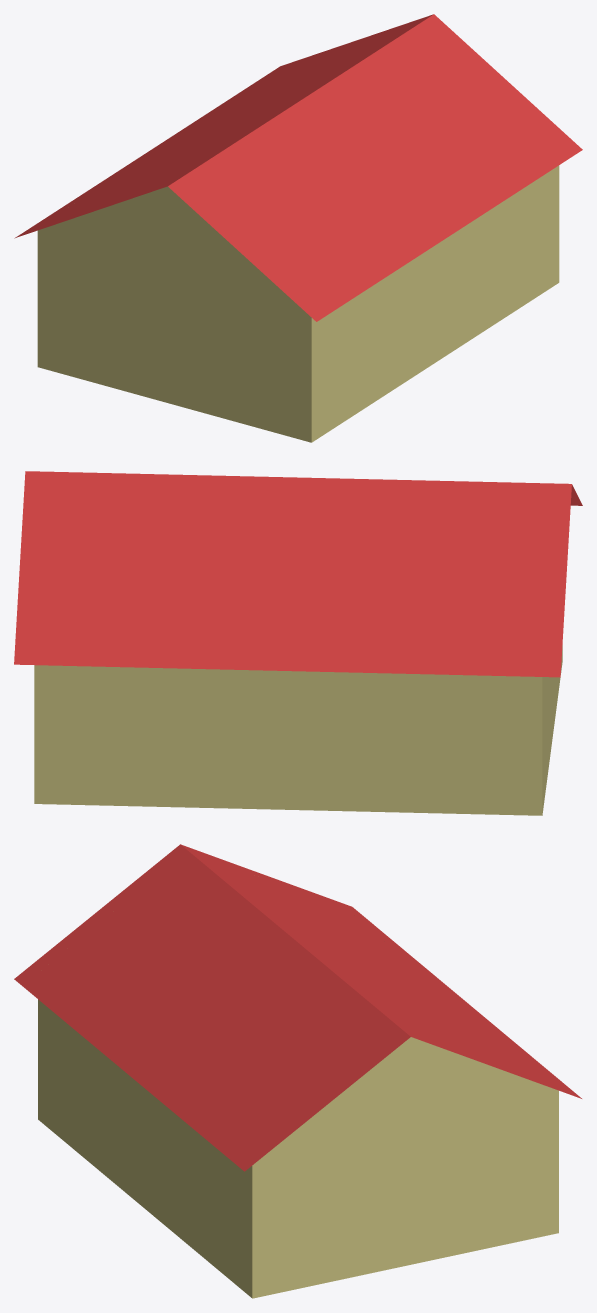
The picture shows the model from 3 angles, top to bottom: view 1: azimuth 30°, elevation 25°; view 2: azimuth 150°, elevation 25°; view 3: azimuth 270°, elevation 25°; orthographic projection. The views are drawn at different scales.
Bounding box in the file's own units: 26.24 × 23.81 × 10.91.
